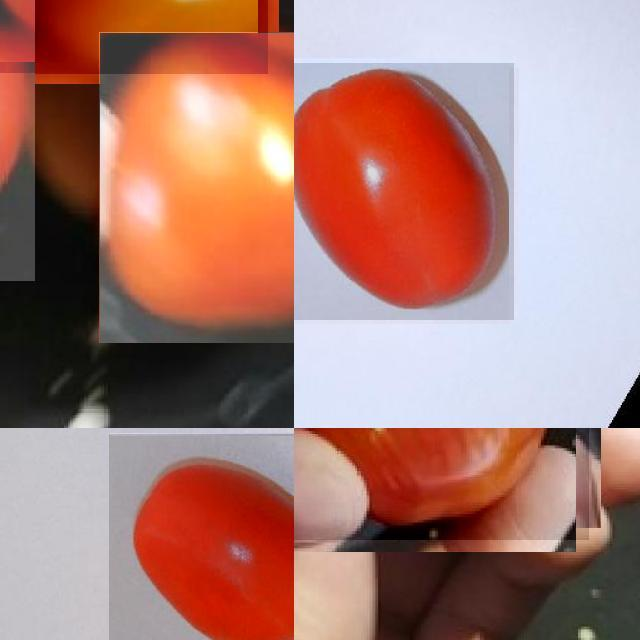Fresh Tomato: (98, 32, 294, 343), (294, 63, 514, 319), (108, 434, 294, 640), (0, 0, 268, 74)
Rotten Tomato: (294, 428, 588, 540)
